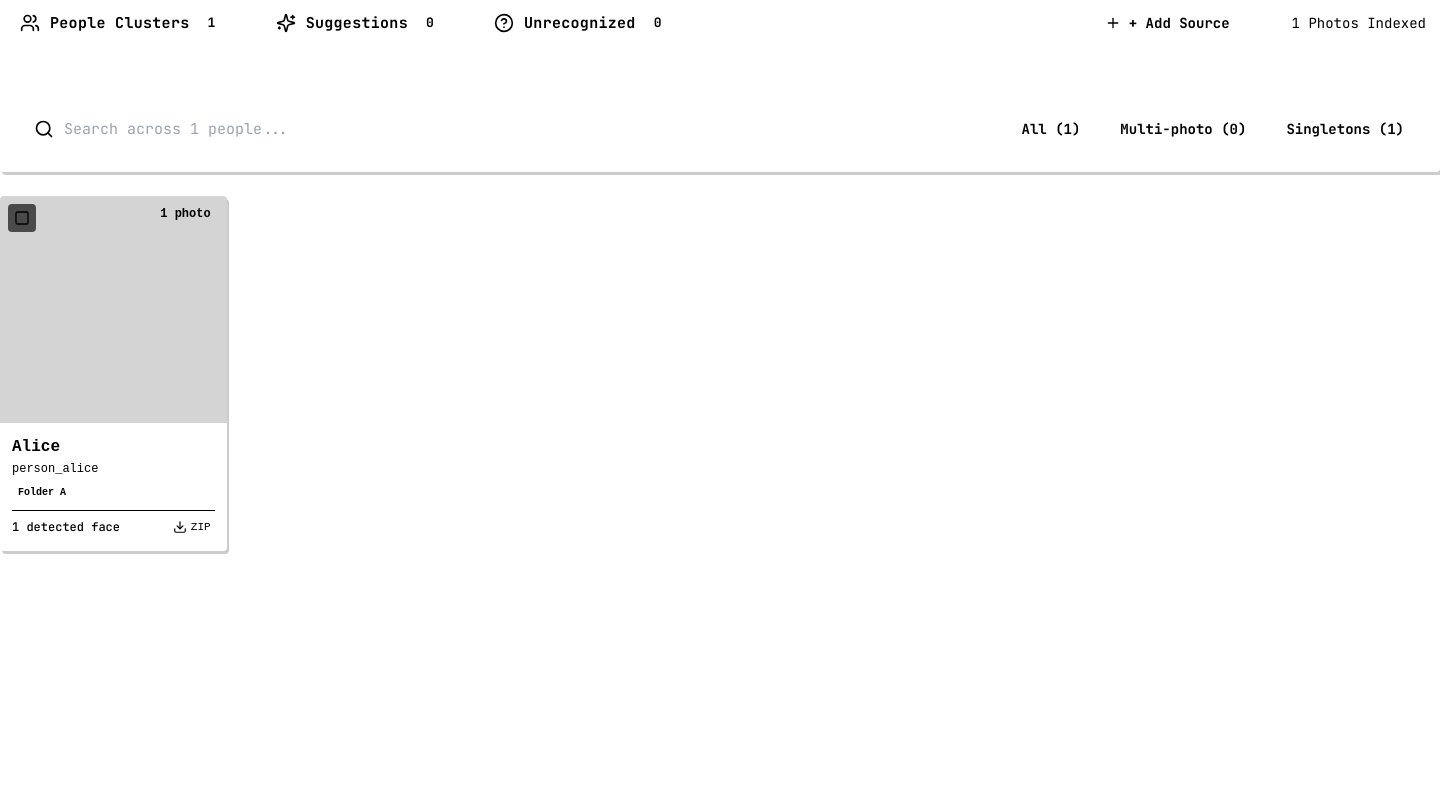
Scenario: Incremental Source Ingestion & What Changed UI (Phase V2-3) › ReviewPeopleScreen Integration › opens AddSourceModal when clicking + Add Source
What coordinates should you click on to do the following:
click the button with test id "btn-add-source"
I would click on:
 (1167, 23)
Its box is [1087,2,1248,44].
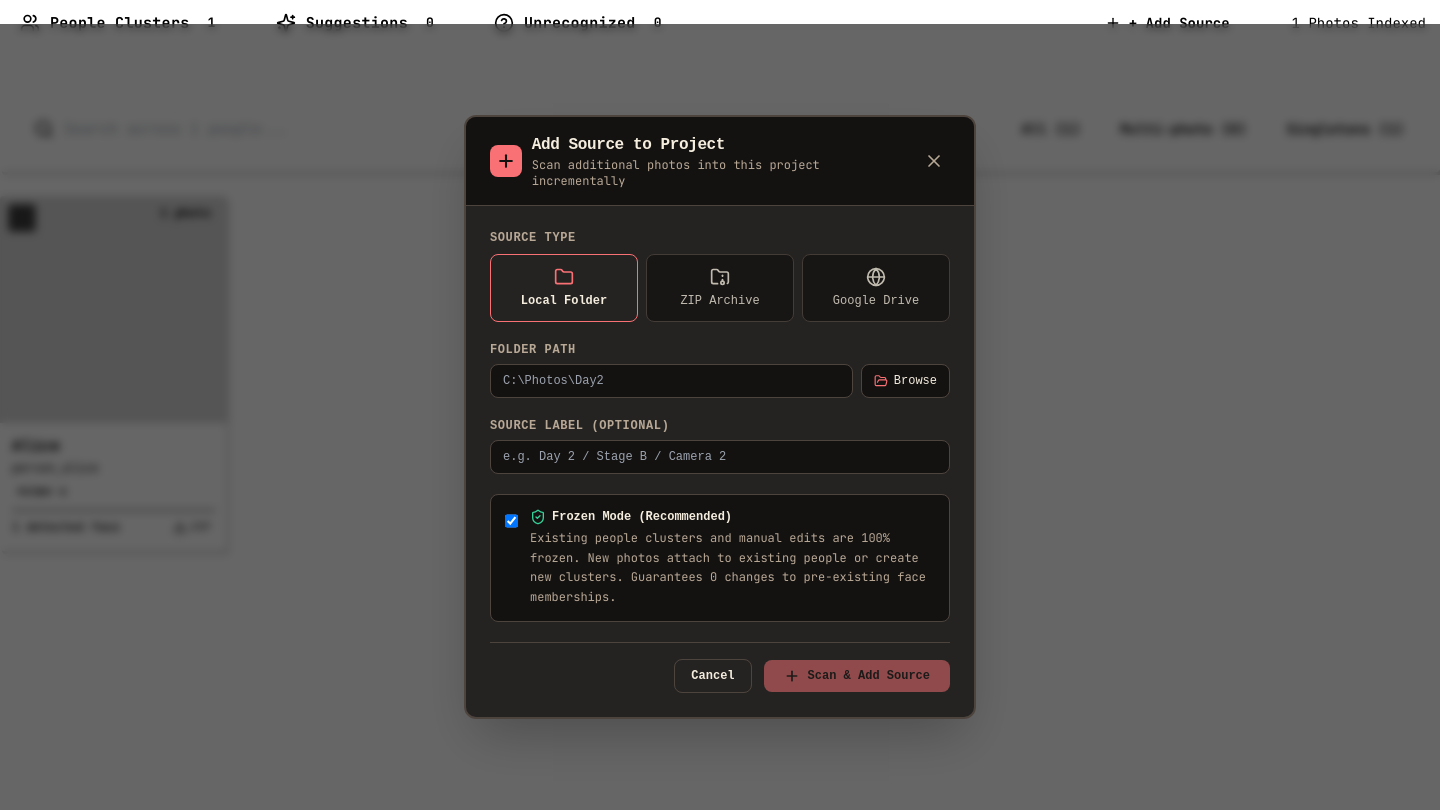
Check: the element with test id "add-source-modal-card" is shown, box [464,115,976,719]
